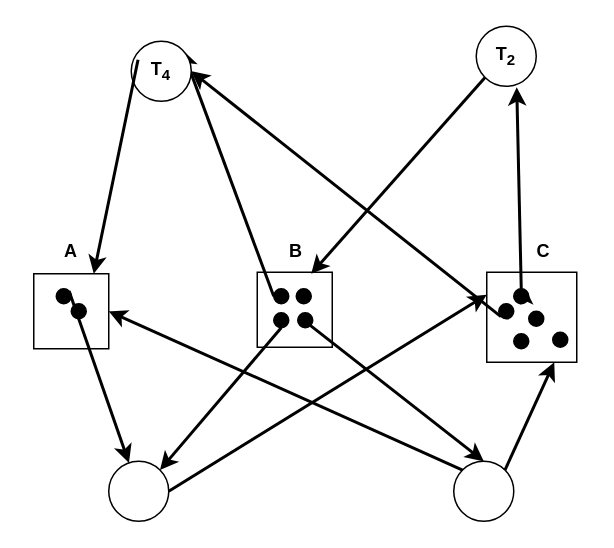
Some shapes in this 614 by 548 pixel diagram are drawn without their labels. The box of each missing label's shape, as (x1, y1, x2, y2) in pixels:
T 1: (107, 460, 169, 521)
T 3: (452, 460, 514, 521)
